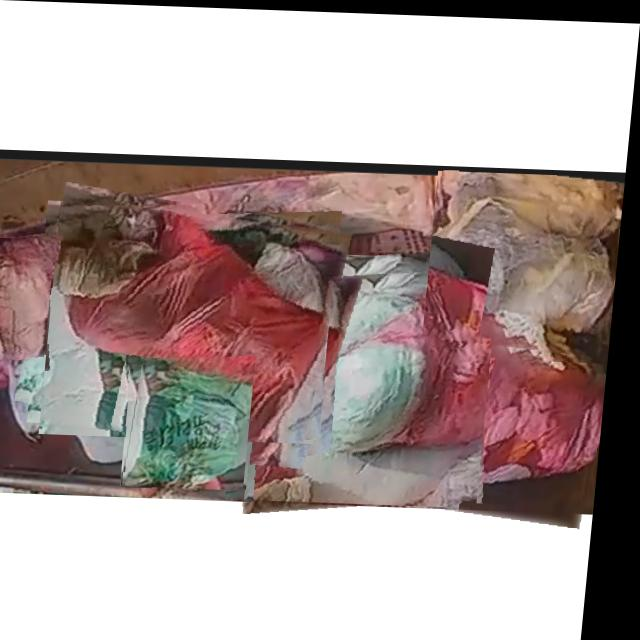other_trashbag: (63, 201, 335, 440), (255, 270, 491, 502), (306, 324, 612, 497), (436, 167, 627, 346), (133, 355, 259, 486), (0, 236, 58, 359)
